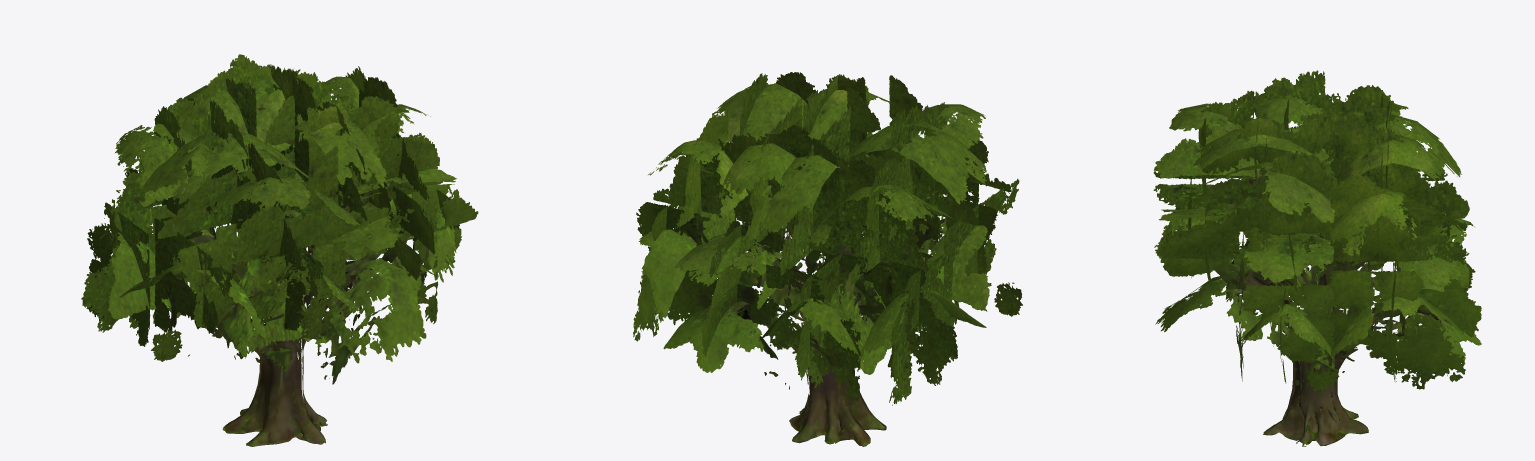
Rendered from tree-4949-near.glb.
3 renders of one model, left to right at view 1: azimuth 30°, elevation 25°; view 2: azimuth 150°, elevation 25°; view 3: azimuth 270°, elevation 25°, orthographic. The views are drawn at different scales.
Parts seen in each view (by area): view 1: Foliage, Wood; view 2: Foliage, Wood; view 3: Foliage, Wood.
Part boxes in pixels (x1,y1,x2,y2): Foliage: [81, 54, 478, 384]; Wood: [214, 104, 392, 446]; Foliage: [633, 72, 1022, 405]; Wood: [720, 225, 935, 446]; Foliage: [1153, 70, 1481, 392]; Wood: [1230, 171, 1440, 446].
Bounding box in the file's own units: 14.42 × 12.99 × 13.27.
Materials: 2 (2 with a texture image).
